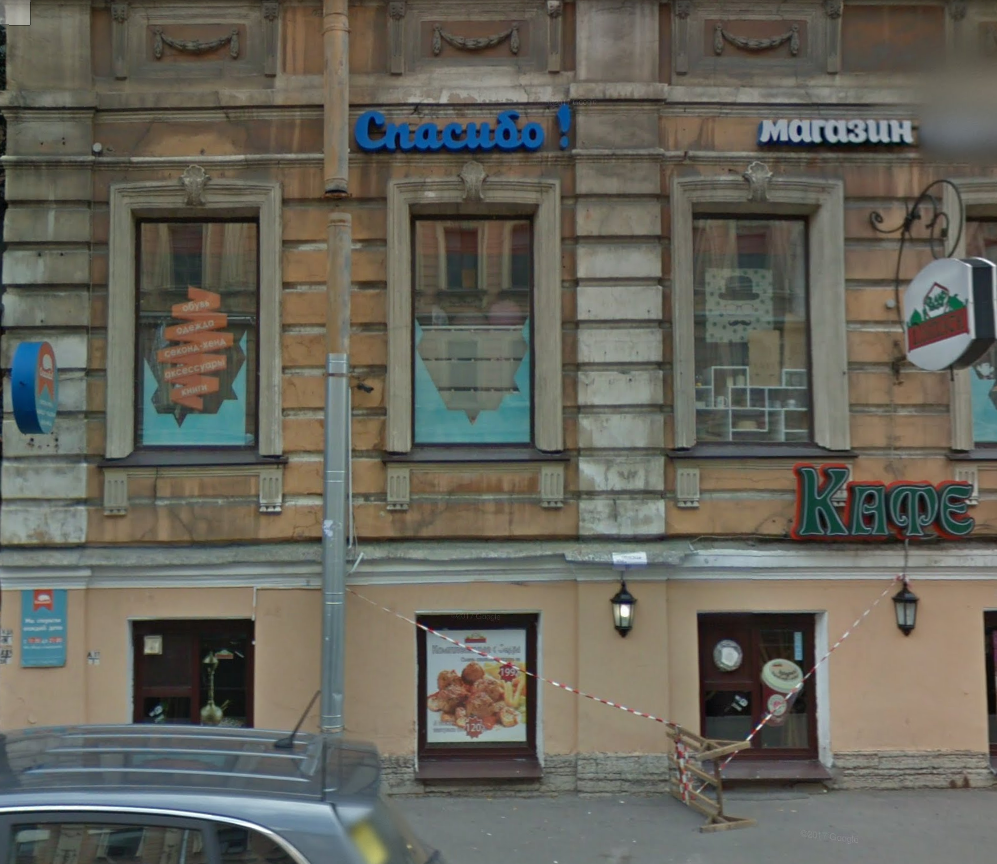cantilever: (858, 166, 997, 387), (8, 334, 70, 441)
signboard: (789, 454, 979, 543), (346, 91, 577, 164), (758, 113, 927, 152)
window: (135, 210, 254, 459), (696, 210, 811, 446), (413, 218, 527, 451), (700, 610, 816, 759), (418, 614, 533, 759)
